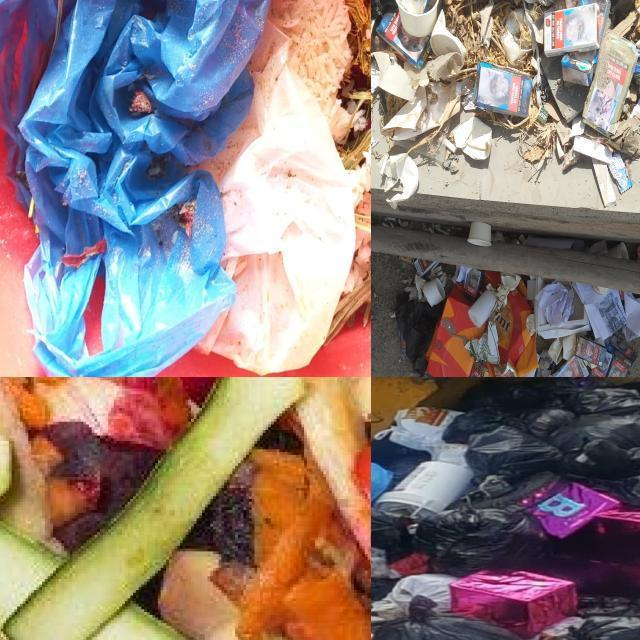Background: (371, 112, 640, 246)
Cig_bud: (432, 265, 442, 273), (438, 228, 449, 235), (440, 271, 447, 281), (382, 221, 391, 228), (441, 276, 447, 286), (386, 216, 396, 221), (451, 226, 462, 230), (429, 227, 435, 233), (437, 271, 443, 276), (447, 228, 451, 232)
Cig_pack: (583, 34, 638, 136), (474, 62, 532, 118), (376, 13, 430, 69), (544, 4, 600, 56), (589, 336, 638, 377), (609, 336, 638, 367), (576, 337, 606, 365), (552, 356, 589, 377), (463, 269, 483, 302), (590, 352, 613, 377), (414, 259, 438, 278), (607, 358, 628, 377), (576, 339, 595, 360), (494, 362, 518, 377), (470, 362, 488, 377), (536, 367, 550, 377), (607, 349, 610, 351)
Garbage: (0, 377, 371, 640), (371, 377, 640, 640), (371, 0, 640, 205), (396, 259, 640, 377)
Plastic_Bag: (201, 23, 355, 374), (416, 507, 548, 576), (451, 570, 575, 639), (548, 507, 640, 595), (374, 597, 521, 640), (376, 461, 473, 520), (461, 377, 603, 416), (466, 426, 563, 482), (376, 408, 461, 456), (396, 293, 444, 375), (551, 415, 640, 451), (568, 440, 640, 480), (386, 573, 458, 611), (443, 408, 518, 444), (575, 388, 640, 414), (526, 409, 575, 437), (371, 507, 404, 548), (538, 493, 585, 517)
Plastic_wraper: (609, 153, 632, 194)
Tetrapack: (561, 50, 599, 86), (582, 0, 610, 41)
